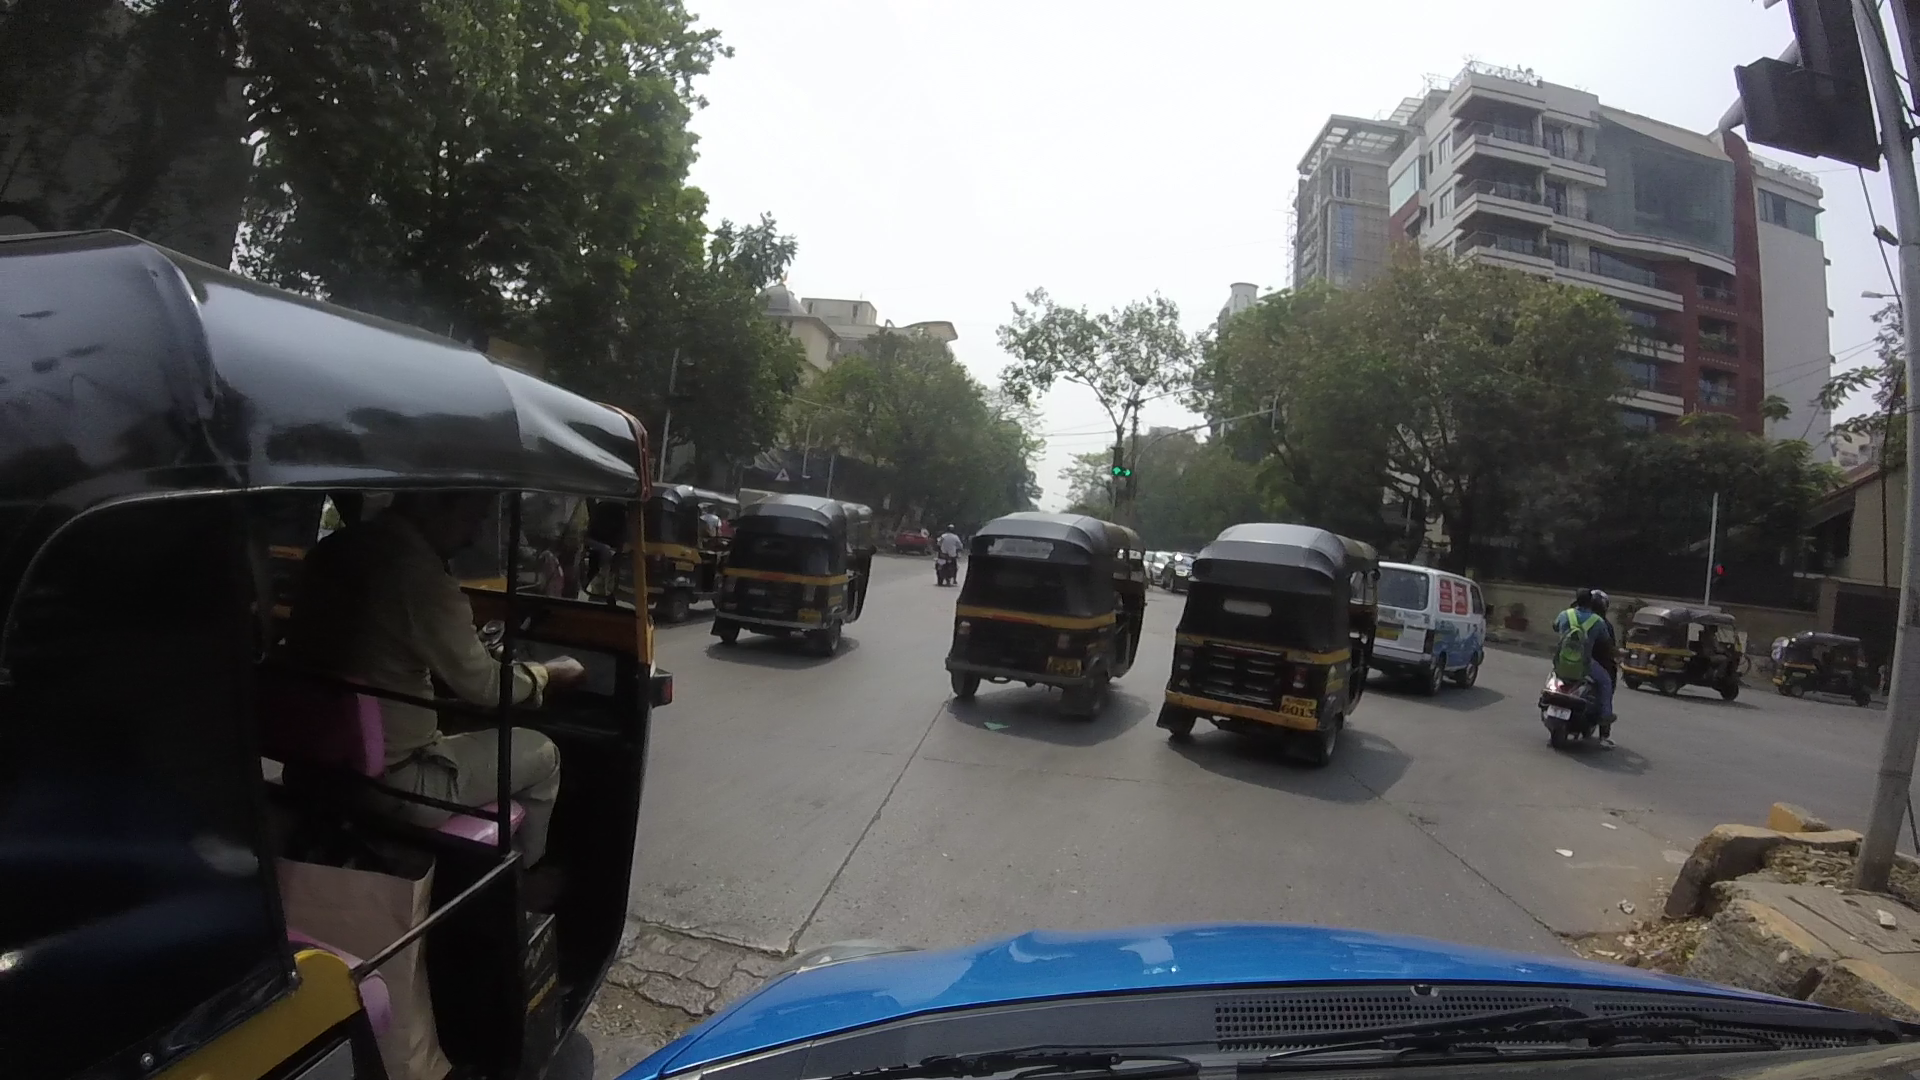bike/scooter: (1527, 572, 1621, 754), (918, 518, 960, 589)
car: (1365, 551, 1498, 687)
rickshaw: (7, 231, 642, 1080), (1164, 498, 1383, 775), (930, 491, 1149, 737), (702, 481, 889, 692), (611, 476, 723, 615), (1617, 600, 1750, 702), (1775, 604, 1876, 709)
